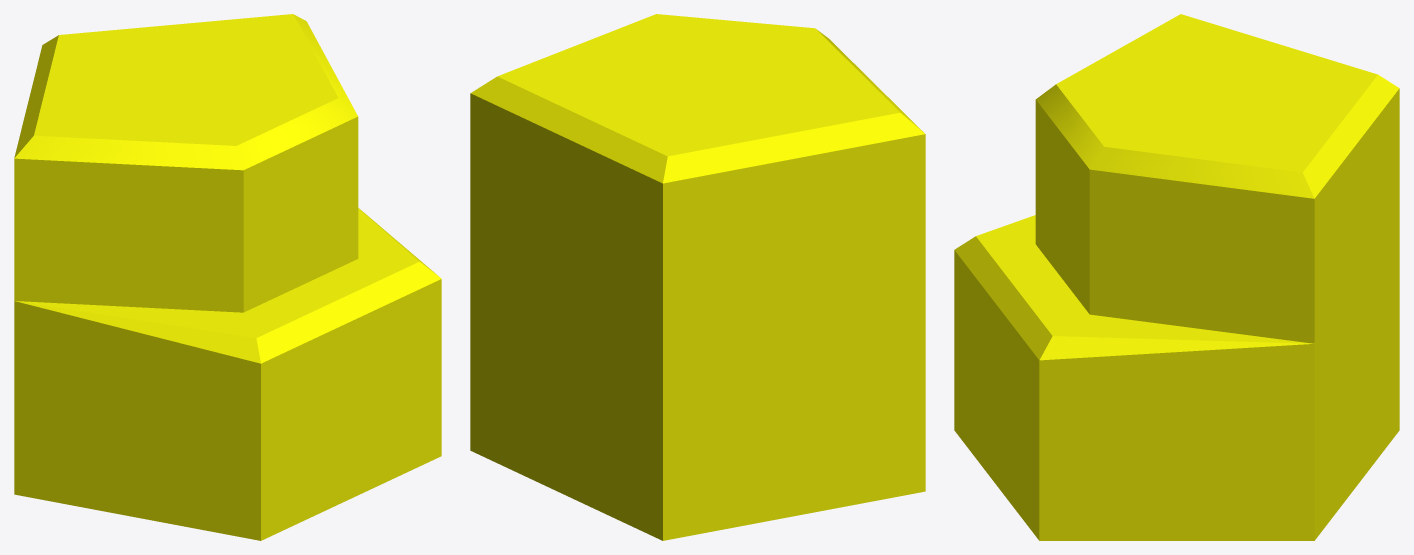
Rendered from kaykit-rock-1-a-color-1.glb.
3 views of the same model, side by side, from view 1: azimuth 30°, elevation 25°; view 2: azimuth 150°, elevation 25°; view 3: azimuth 270°, elevation 25° (orthographic). The views are drawn at different scales.
Visible parts, largest first — view 1: Rock_1_A_Color1; view 2: Rock_1_A_Color1; view 3: Rock_1_A_Color1.
Boxes of the visible parts, <box> form: Rock_1_A_Color1: <box>14,14,441,540</box>; Rock_1_A_Color1: <box>470,14,925,540</box>; Rock_1_A_Color1: <box>954,14,1399,540</box>.
Bounding box in the file's own units: 0.578 × 0.5403 × 0.6078.
